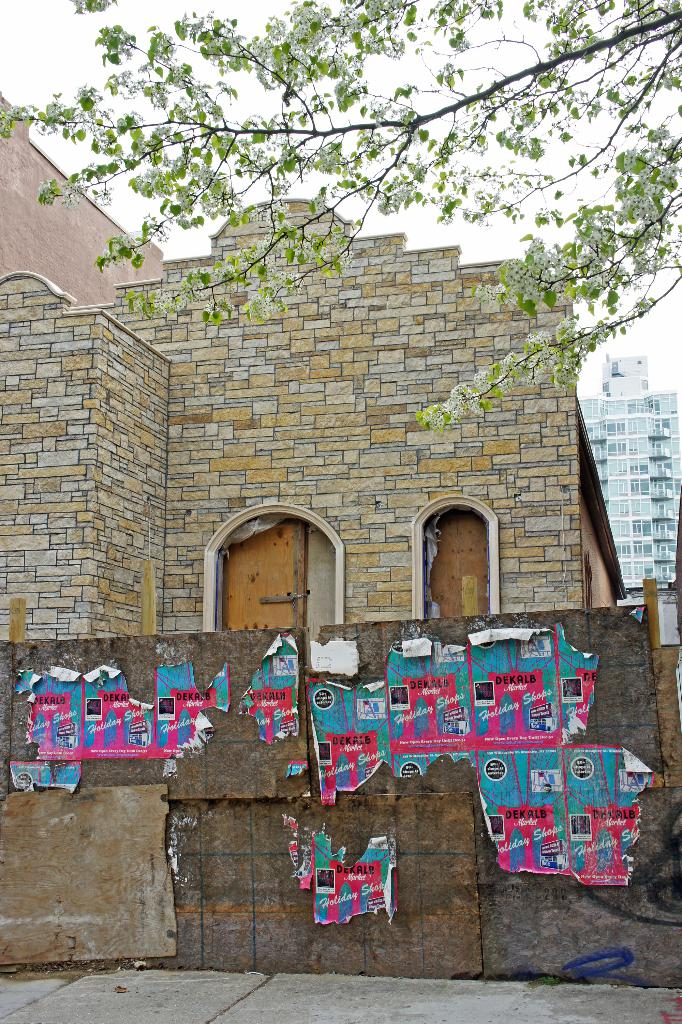Tree: (0, 0, 681, 428)
